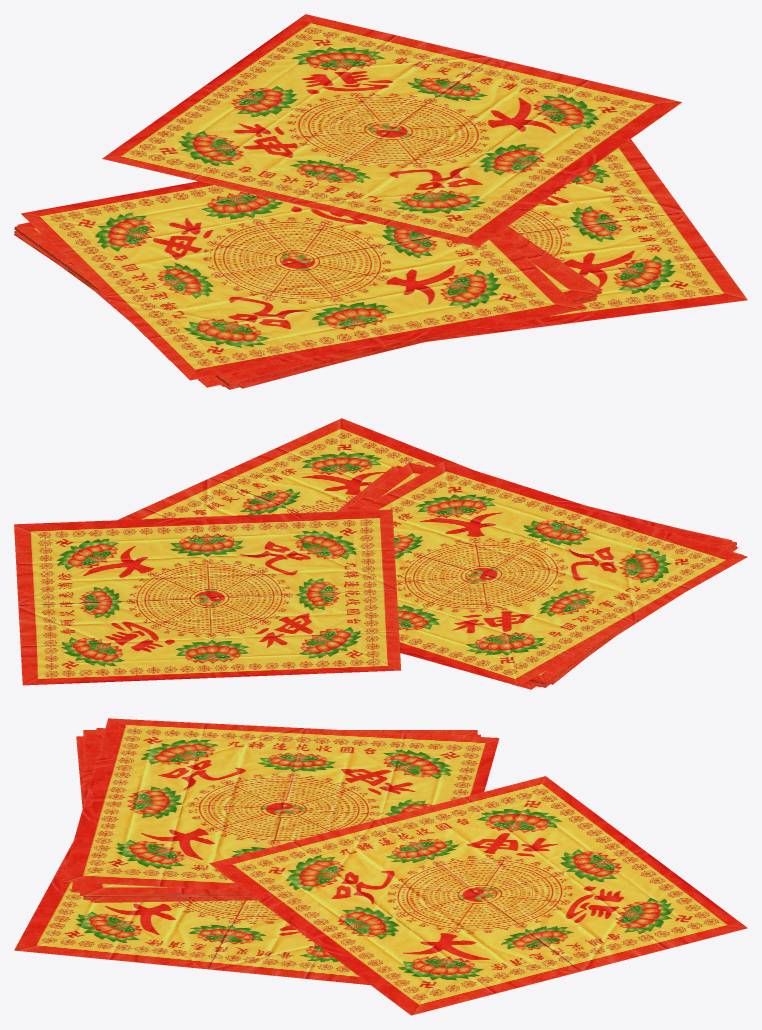
File: lotus_paper.fbx
3 renders of one model, top to bottom at view 1: azimuth 30°, elevation 25°; view 2: azimuth 150°, elevation 25°; view 3: azimuth 270°, elevation 25°, orthographic. The views are drawn at different scales.
Parts seen in each view (by area): view 1: Plane.015; view 2: Plane.015; view 3: Plane.015.
Boxes of the visible parts, bbox=[...] form: Plane.015: bbox=[14, 14, 747, 389]; Plane.015: bbox=[14, 418, 747, 689]; Plane.015: bbox=[14, 718, 747, 1015].
Bounding box in the file's own units: 0.3756 × 0.3957 × 0.00891.
Materials: 1 (1 with a texture image).
